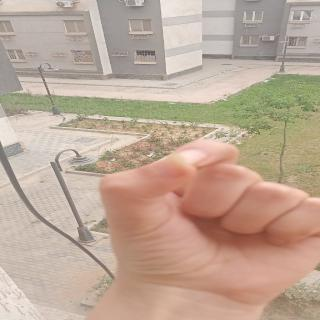FAA: (107, 138, 320, 282)
